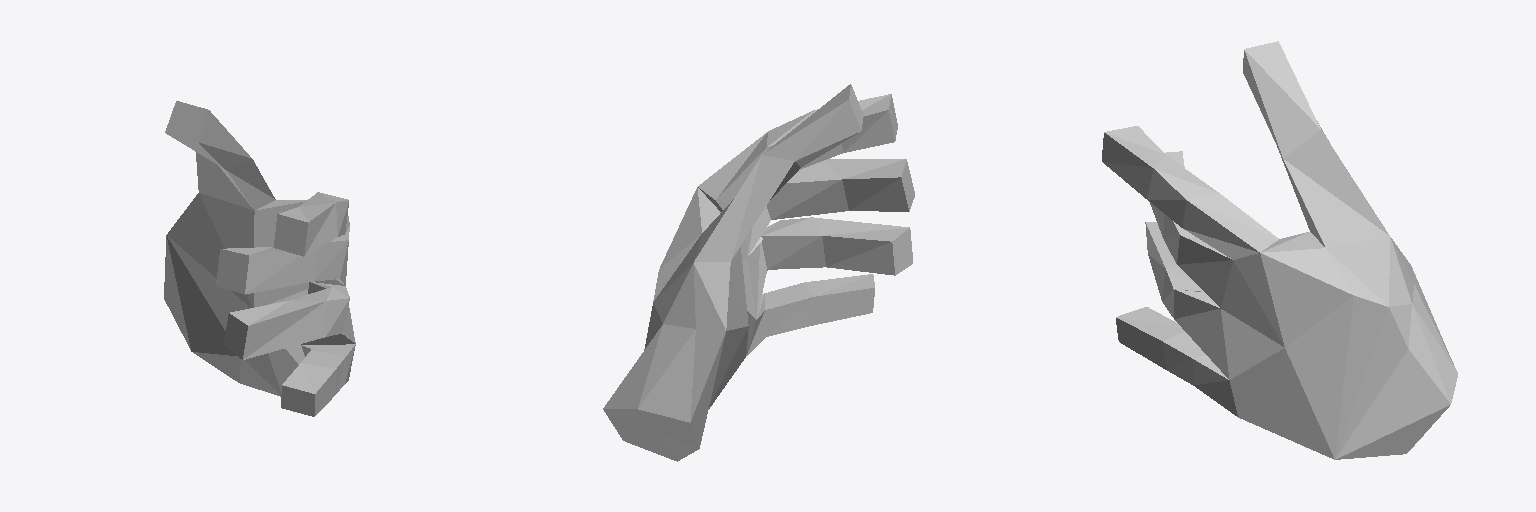
Rendered from ClarinetLeftHand17.obj.
The picture shows the model from 3 angles: view 1: azimuth 30°, elevation 25°; view 2: azimuth 150°, elevation 25°; view 3: azimuth 270°, elevation 25°; orthographic projection.
Visible parts, largest first — view 1: ClarinetLeftHand18_RecorderHandLeft0.022; view 2: ClarinetLeftHand18_RecorderHandLeft0.022; view 3: ClarinetLeftHand18_RecorderHandLeft0.022.
Part boxes in pixels (bbox=[...]): ClarinetLeftHand18_RecorderHandLeft0.022: bbox=[164, 101, 355, 416]; ClarinetLeftHand18_RecorderHandLeft0.022: bbox=[603, 84, 914, 461]; ClarinetLeftHand18_RecorderHandLeft0.022: bbox=[1102, 41, 1457, 459].
Size of the model in its own units: 3.02 by 5.49 by 5.06.